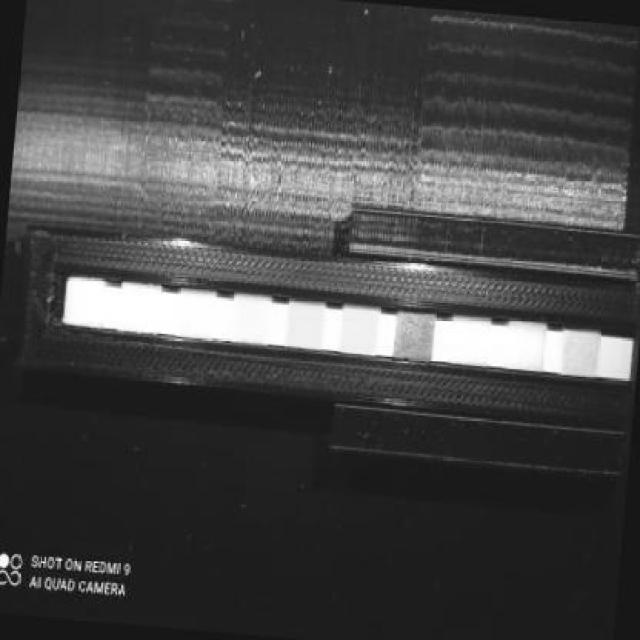Bilirubin: (510, 325, 543, 368)
Blood: (344, 310, 377, 352)
Glucose: (564, 334, 598, 375)
Ketone: (454, 321, 484, 364)
Leukocytes: (68, 282, 102, 324)
Nitrite: (123, 287, 158, 330)
Protein: (236, 298, 269, 342)
SpGravity: (398, 316, 432, 358)
Urobilinogen: (181, 295, 212, 336)
background: (0, 0, 640, 640)
pH: (290, 305, 321, 347)
strip: (64, 282, 633, 381)
